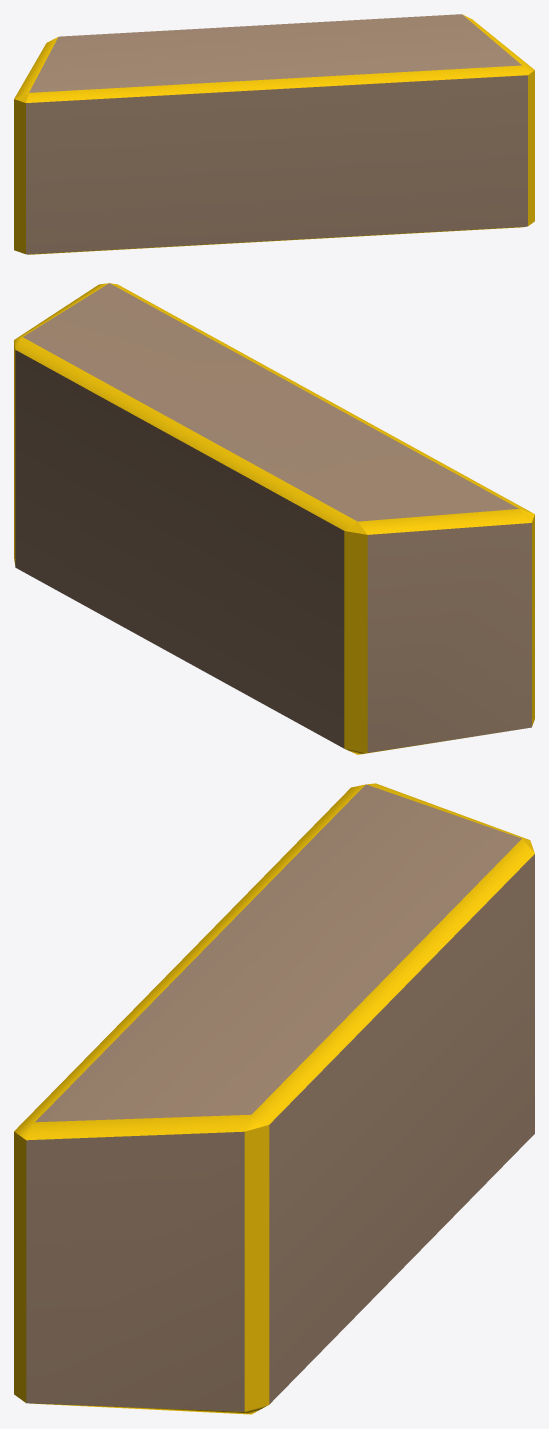
File: OrangeL2.fbx
The picture shows the model from 3 angles, top to bottom: view 1: azimuth 30°, elevation 25°; view 2: azimuth 150°, elevation 25°; view 3: azimuth 270°, elevation 25°; orthographic projection. The views are drawn at different scales.
Visible parts, largest first — view 1: polySurface63; view 2: polySurface63; view 3: polySurface63.
Boxes of the visible parts, box(x1,y1,x2,y2) form: polySurface63: box(14, 14, 534, 254); polySurface63: box(14, 283, 534, 754); polySurface63: box(14, 783, 534, 1414).
Size of the model in its own units: 2.04 by 0.8012 by 1.26.
